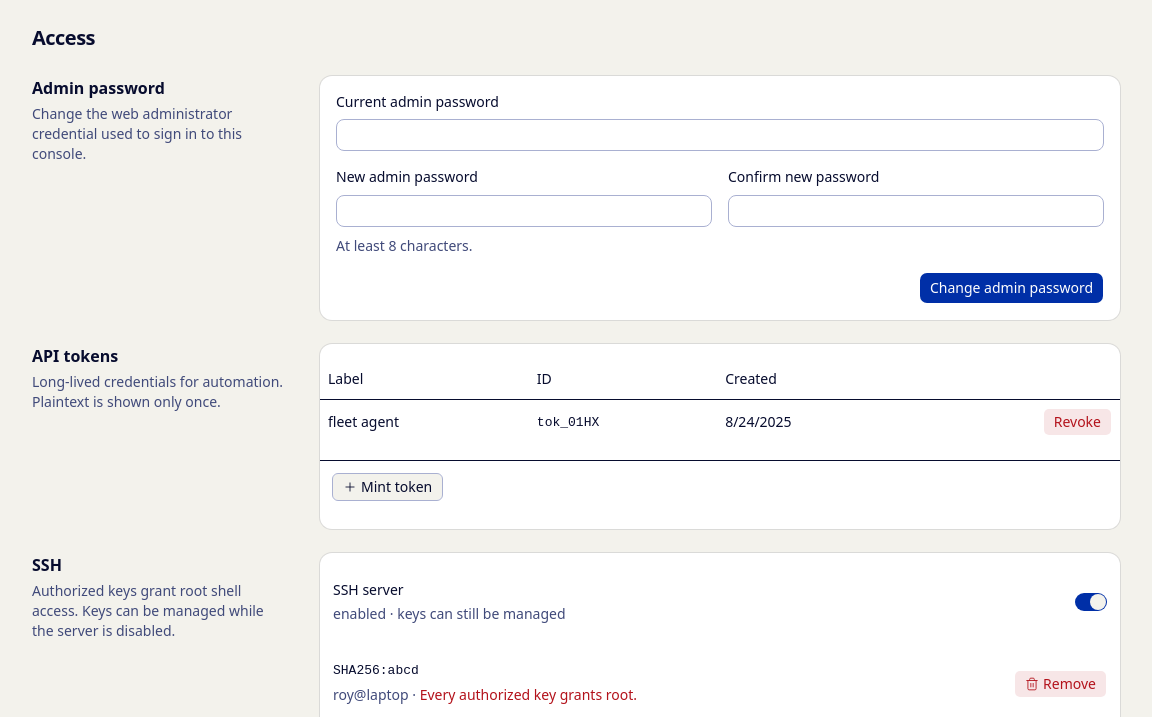
Test: the access page forms › mints a token, reveals it once and offers a copy control
Click the button "Mint token": (388, 487) top-left (332, 473), bottom-right (443, 501)
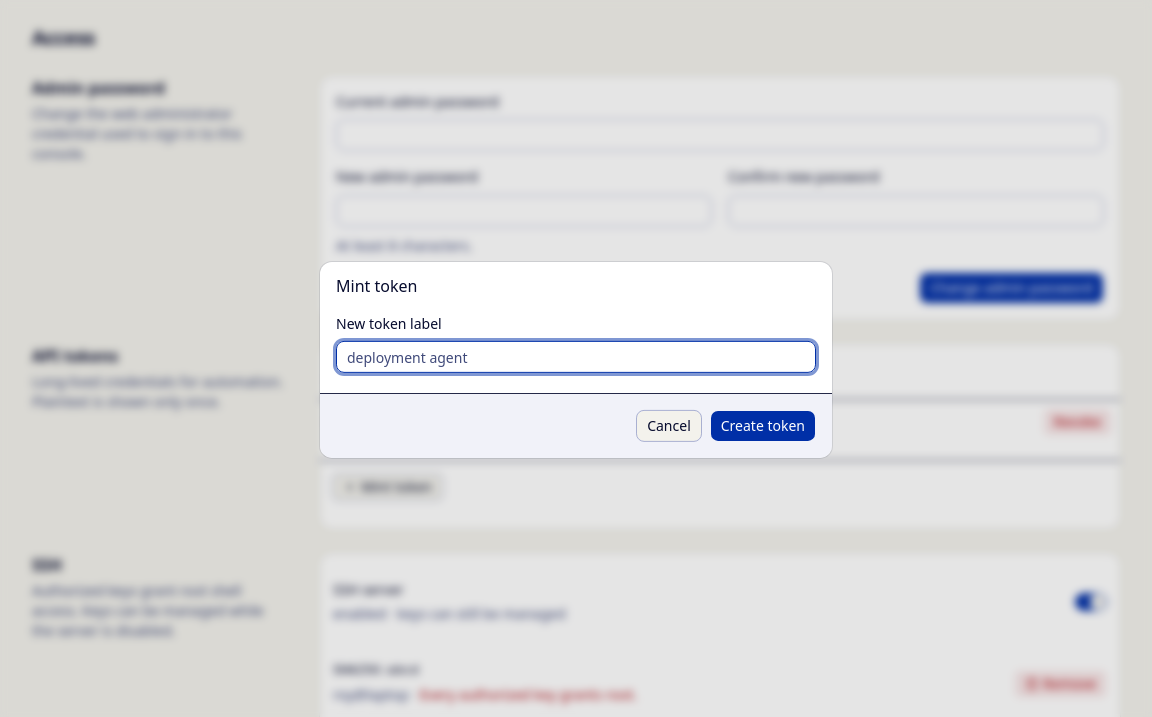
In the field labelled "New token label": (576, 357) top-left (336, 341), bottom-right (816, 373), type "ci"
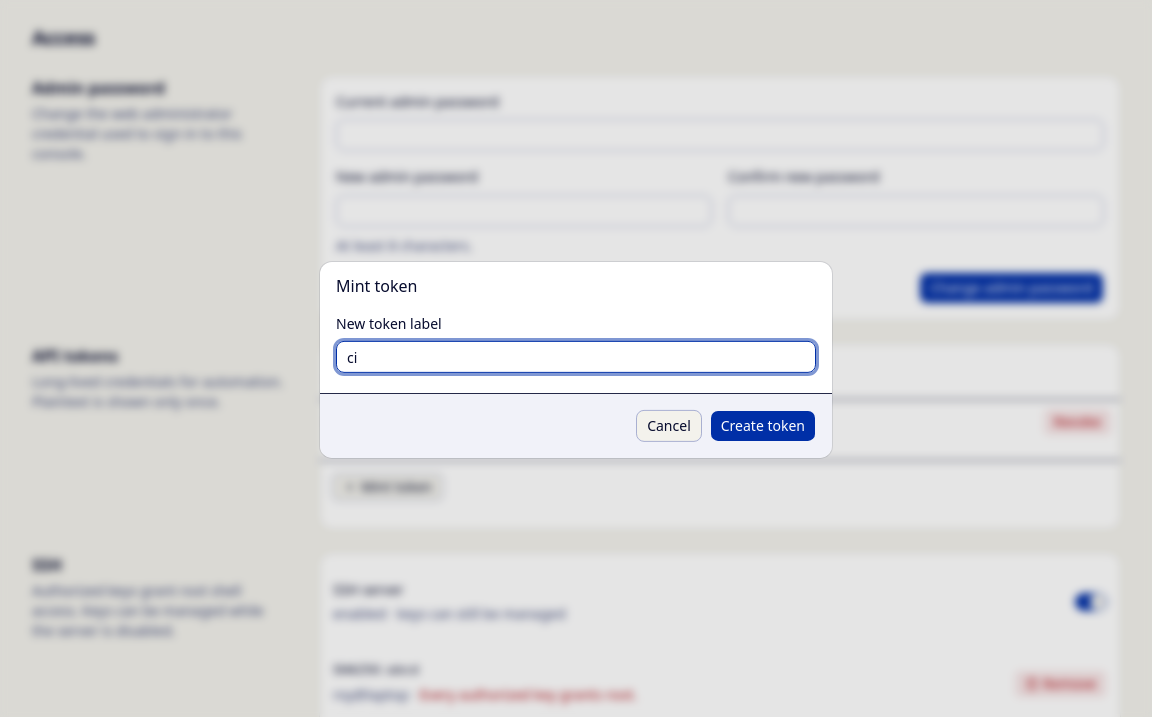
Click the button "Create token": (763, 426) top-left (710, 410), bottom-right (816, 442)
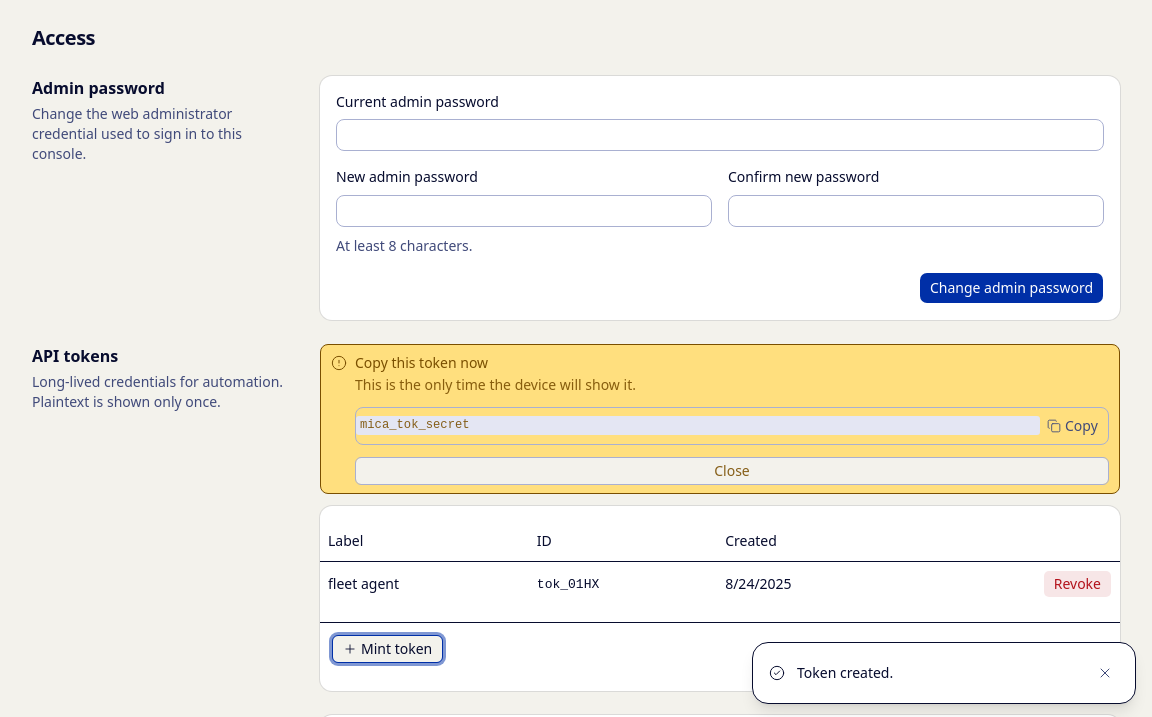
Expected: the text "mica_tok_secret" is shown, top-left (356, 416), bottom-right (1040, 435)
Expected: the heading "Token created." is shown, top-left (797, 663), bottom-right (893, 682)
